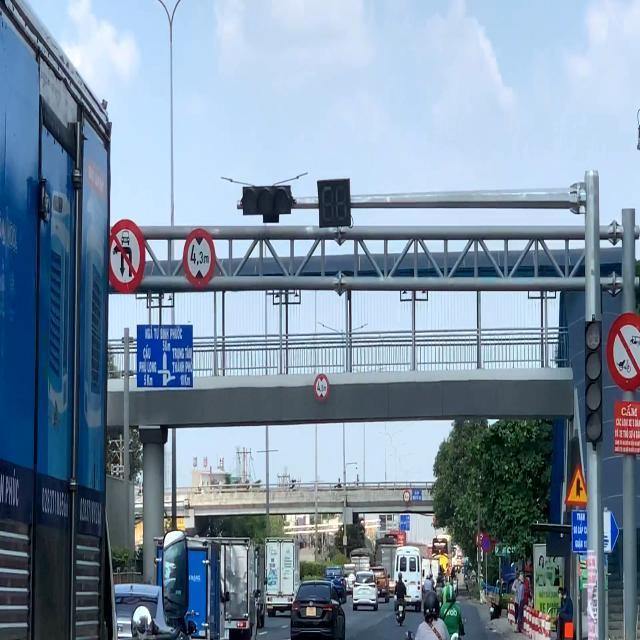P-117: (185, 227, 214, 286)
W-207b: (563, 463, 589, 504)
